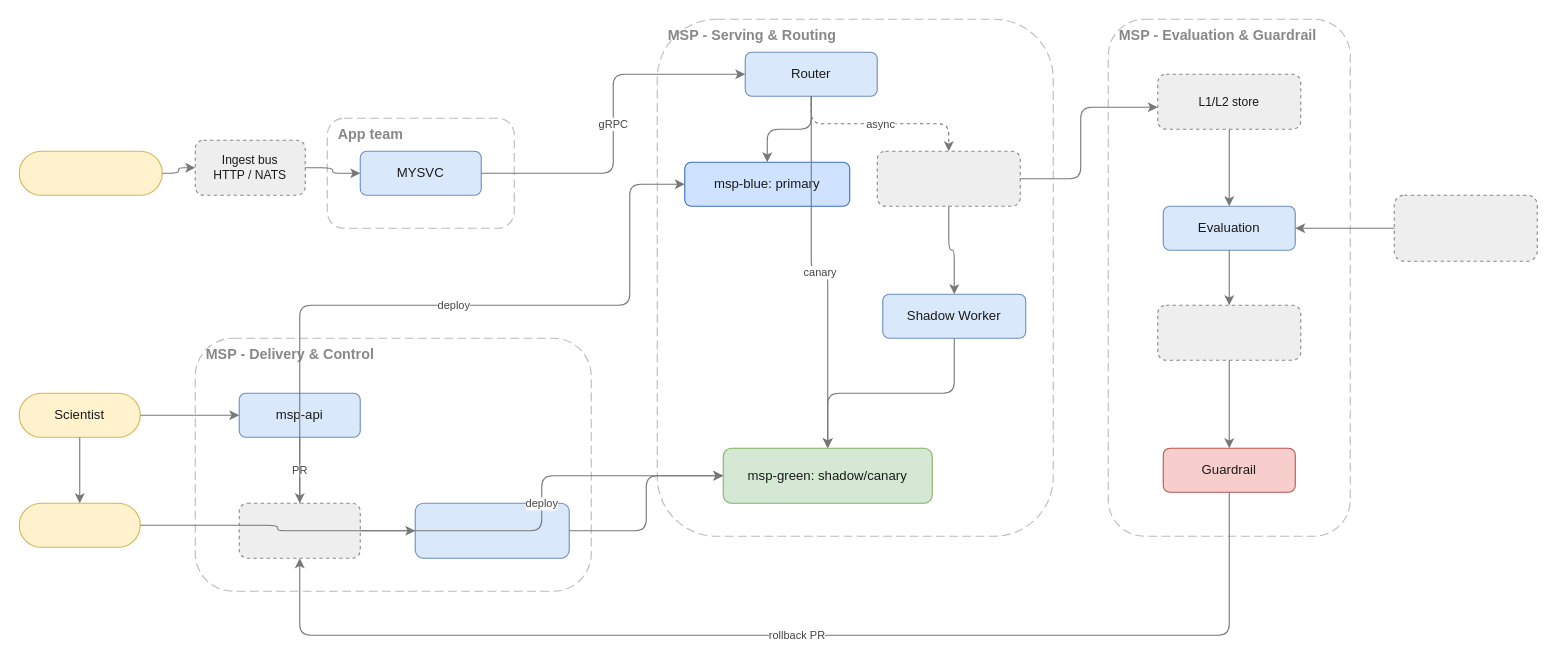
Image size: 1557x663. Some labels were removed from this diagram. The shapes that lost their labels are listed below. From the top down, each one's centre as x and y in pixels, then its label:
At point 90,172: "Upstream Client".
At point 948,178: "msp.raw-requests (24h payload)".
At point 1465,227: "Ground truth - Q2".
At point 1229,332: "Metrics L3".
At point 79,524: "Model Center".
At point 299,530: "GitOps repo".
At point 491,530: "Sync Controller + gate".
